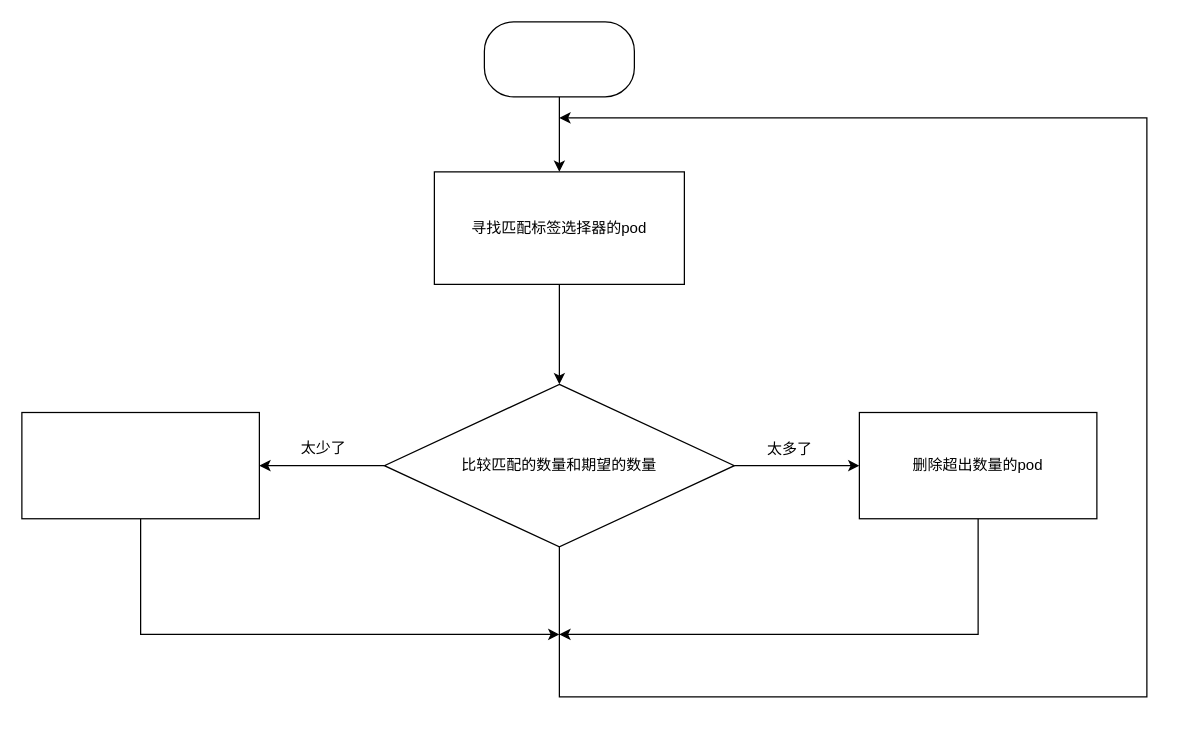
Some shapes in this 1179 by 729 pixel diagram are drawn without their labels. Each missing label, with the centre of its shape:
"从当前的模板中重建pod" goes at point (140, 465).
"开始" goes at point (558, 59).
